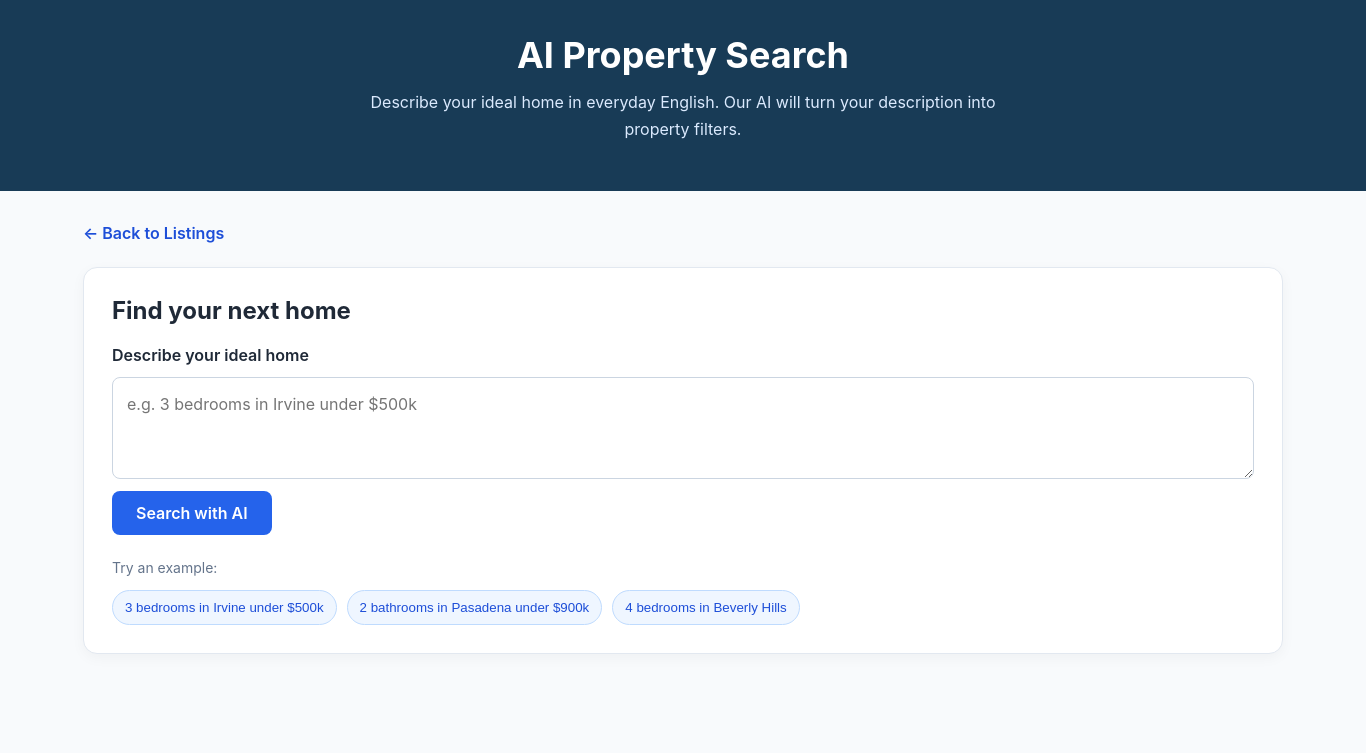
NaturalSearchPage › rejects an empty query
Click the button "Search with AI". click: (192,513)
box: x1=112 y1=491 x2=272 y2=535
(page scrolled)
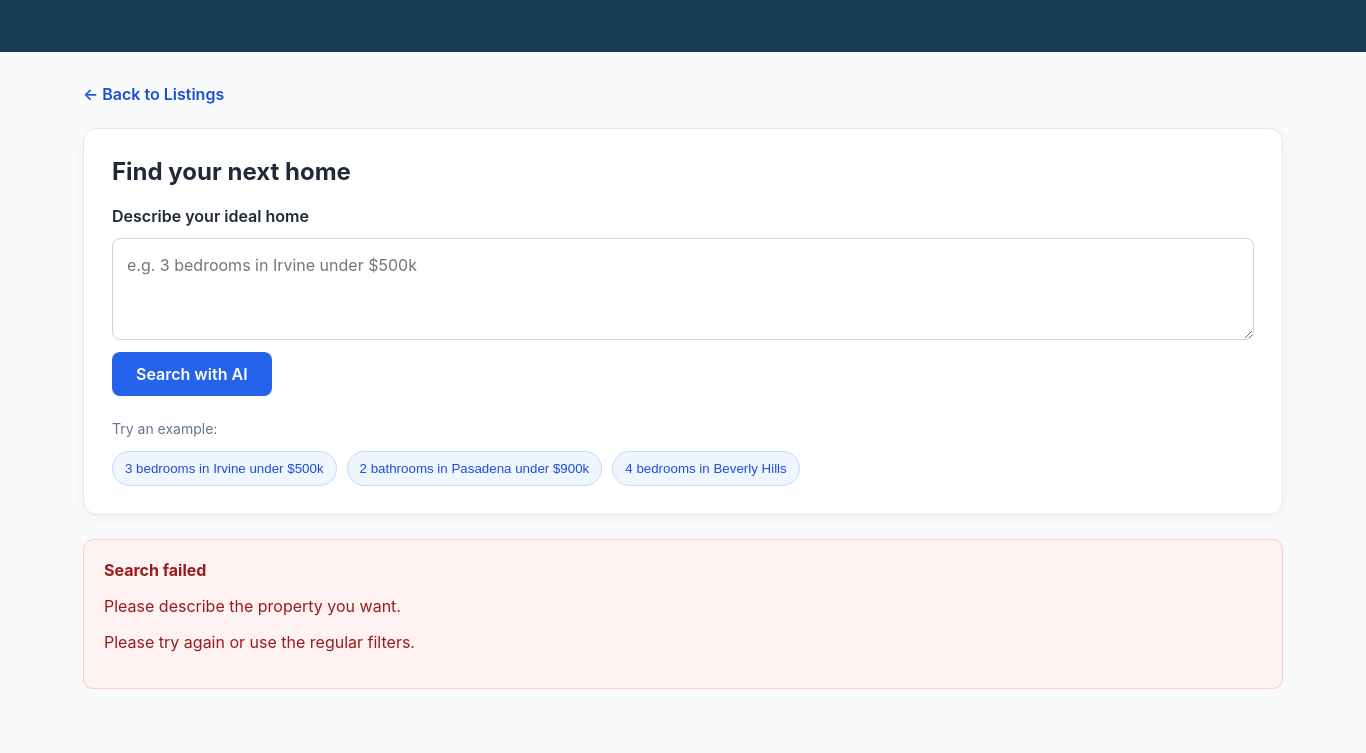
Expected: the message shows "Please describe the property you want.", x1=104 y1=596 x2=401 y2=616
